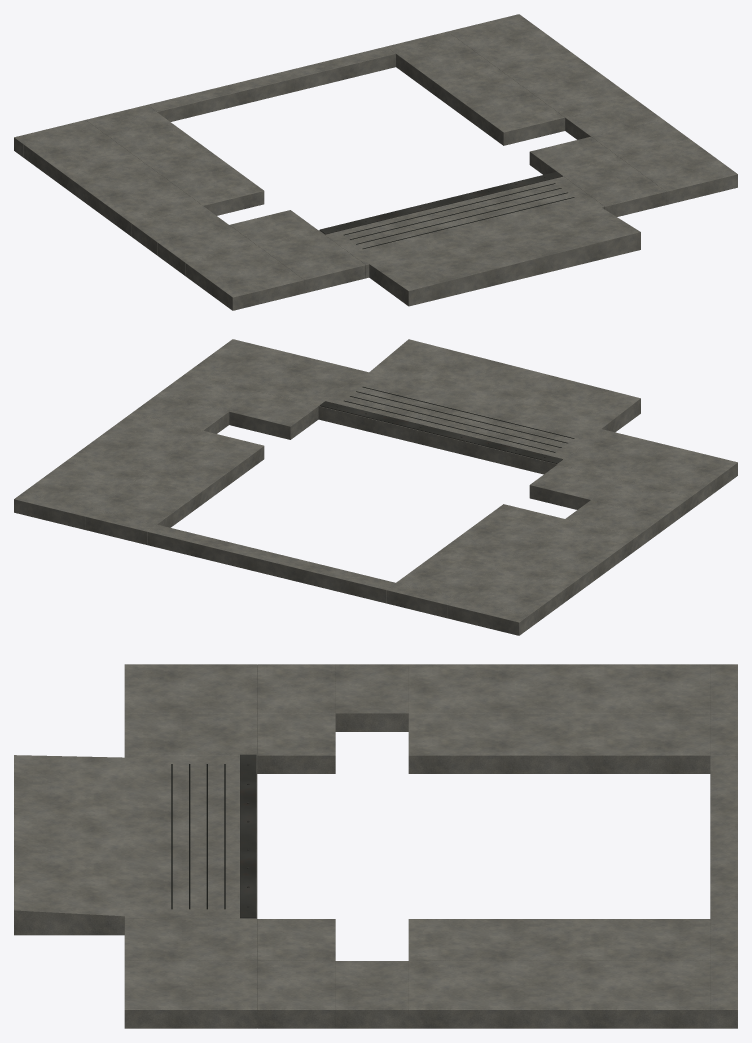
The model's file is EXIT_Landing.fbx.
3 views of the same model, one above another, from view 1: azimuth 30°, elevation 25°; view 2: azimuth 150°, elevation 25°; view 3: azimuth 270°, elevation 25° (orthographic). The views are drawn at different scales.
Visible parts, largest first — view 1: EXIT_Landing; view 2: EXIT_Landing; view 3: EXIT_Landing.
Part boxes in pixels (x1,y1,x2,y2): EXIT_Landing: (14,14,737,310); EXIT_Landing: (14,339,737,635); EXIT_Landing: (14,664,737,1028).
Bounding box in the file's own units: 7.4 × 0.2493 × 6.55.
